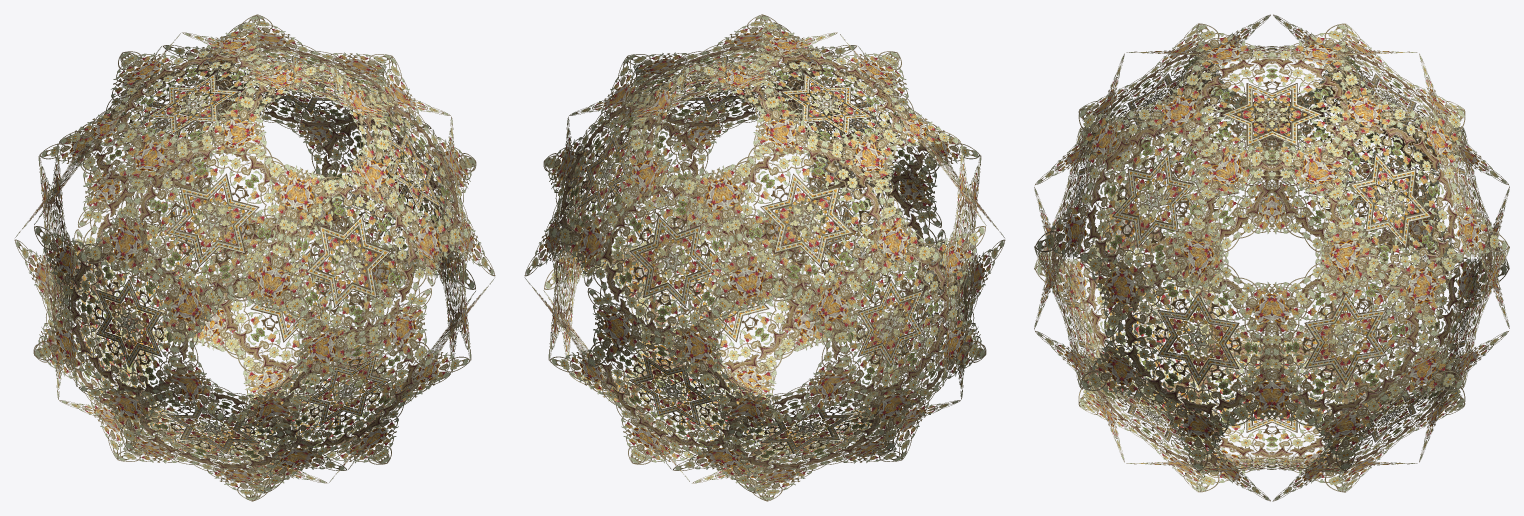
Rendered from SmallDodecicosahedron9.gltf.
3 renders of one model, left to right at view 1: azimuth 30°, elevation 25°; view 2: azimuth 150°, elevation 25°; view 3: azimuth 270°, elevation 25°, orthographic. The views are drawn at different scales.
Visible parts, largest first — view 1: SmallDodecicosahedron; view 2: SmallDodecicosahedron; view 3: SmallDodecicosahedron.
Part boxes in pixels (<box>): SmallDodecicosahedron: <box>14,14,495,501</box>; SmallDodecicosahedron: <box>524,14,1005,501</box>; SmallDodecicosahedron: <box>1034,14,1509,501</box>.
Size of the model in its own units: 3.24 by 3.24 by 3.24.
Materials: 1 (1 with a texture image).
